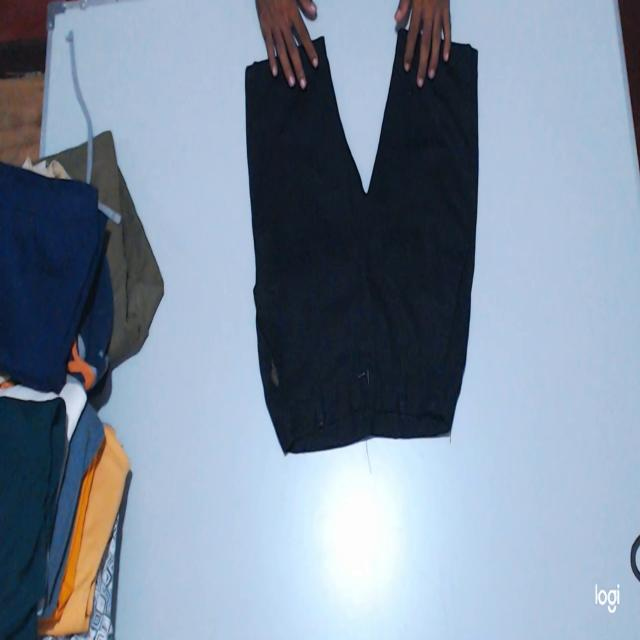new-garment: (246, 31, 478, 453)
